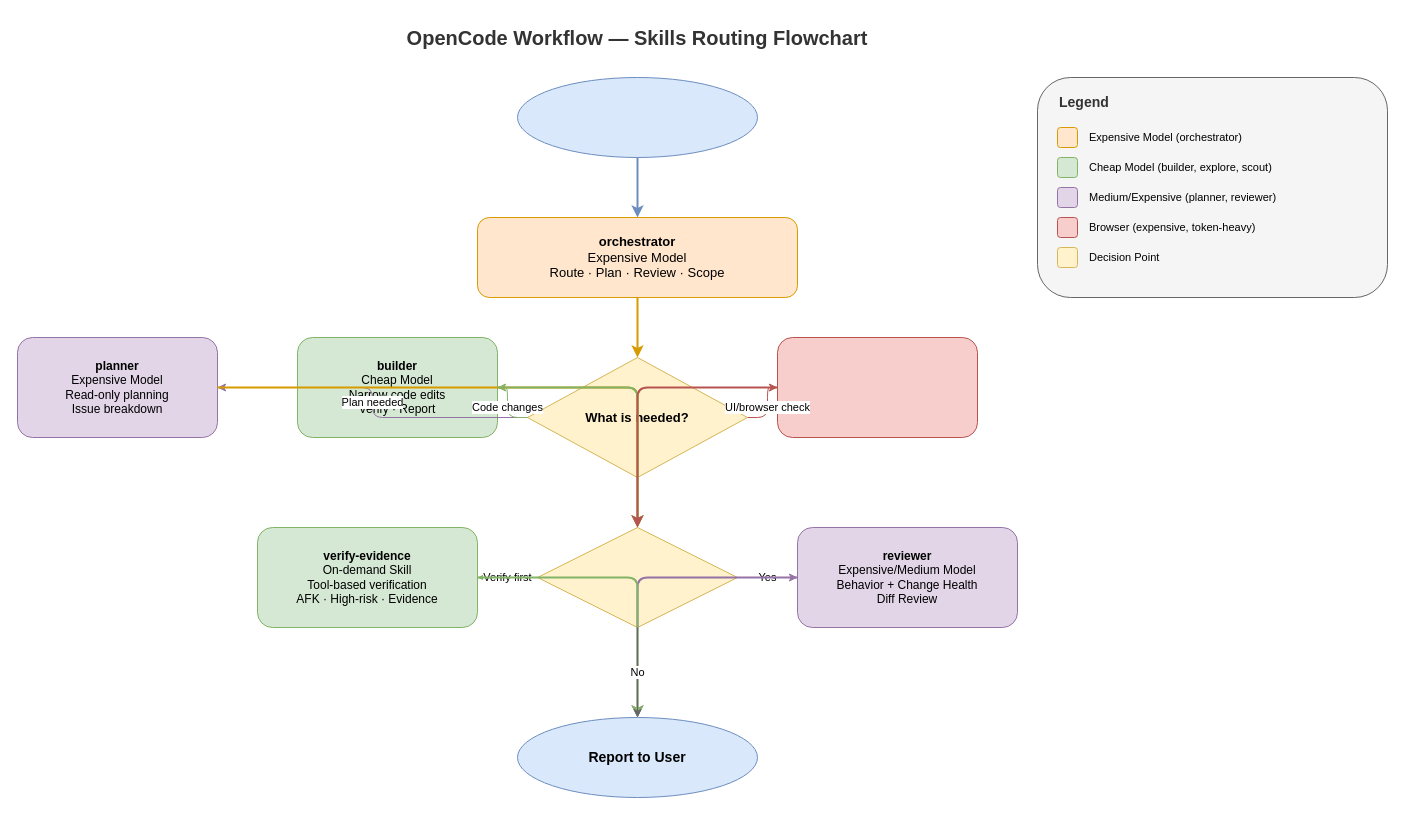
The diagram is 1405 pixels wide and 815 high, and some of its shapes have lost their labels. Here are the shapes that lost their labels. From the top down, the centre of each, then its label:
the point at 637,117: User Request
the point at 877,387: browser-qa Expensive (Browser) Layout · Responsive Console · Network
the point at 637,577: Risk exists?
